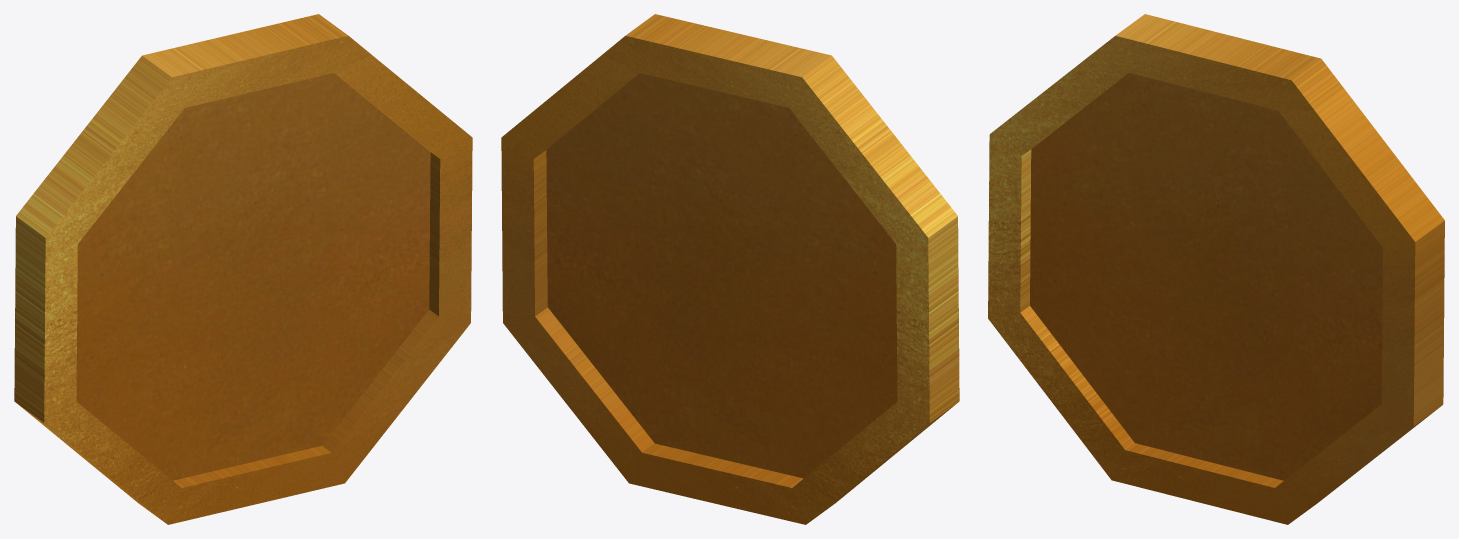
The model's file is Moneda.glb.
3 renders of one model, left to right at view 1: azimuth 30°, elevation 25°; view 2: azimuth 150°, elevation 25°; view 3: azimuth 330°, elevation 25°, orthographic.
Visible parts, largest first — view 1: Cylinder; view 2: Cylinder; view 3: Cylinder.
Boxes of the visible parts, bbox=[...] form: Cylinder: bbox=[14, 14, 472, 524]; Cylinder: bbox=[501, 14, 959, 524]; Cylinder: bbox=[988, 14, 1444, 524].
Bounding box in the file's own units: 1.85 × 1.85 × 0.2232.
1 material, 1 textured.
